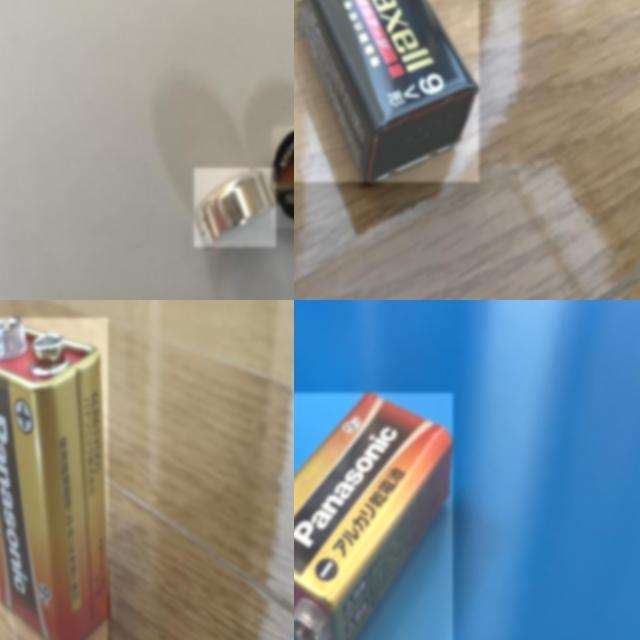9V: (294, 393, 453, 640), (0, 318, 107, 640), (294, 0, 479, 181)
